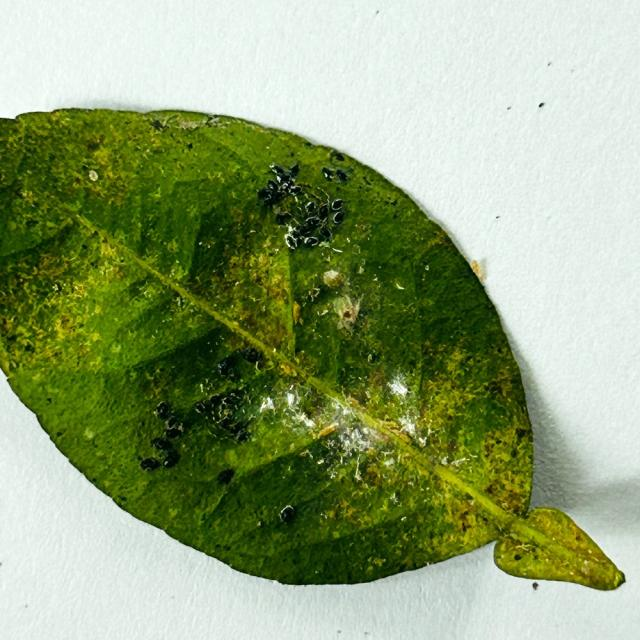Bacterial_Blight: (320, 413, 398, 462), (281, 193, 344, 250), (191, 389, 254, 443), (257, 163, 302, 211), (141, 431, 184, 478), (484, 477, 530, 516), (218, 348, 262, 379), (152, 402, 184, 442), (482, 372, 522, 404), (126, 277, 159, 304), (453, 498, 480, 531), (361, 462, 389, 487), (322, 166, 348, 184), (217, 355, 237, 377), (81, 163, 102, 183), (323, 269, 344, 288), (349, 387, 370, 405), (216, 467, 235, 486), (242, 347, 262, 364), (485, 380, 505, 397), (139, 457, 161, 472), (383, 194, 401, 212), (205, 395, 224, 411), (227, 390, 245, 406), (279, 505, 295, 523), (288, 228, 304, 245), (0, 317, 14, 336), (155, 401, 171, 417), (261, 191, 277, 207), (150, 437, 168, 451), (264, 182, 279, 197), (86, 137, 102, 151), (270, 164, 287, 177), (515, 426, 530, 440), (329, 150, 345, 163), (257, 187, 271, 201), (317, 204, 330, 219), (285, 234, 297, 250), (194, 400, 207, 414), (332, 210, 345, 224), (330, 198, 344, 211), (150, 119, 165, 131), (367, 351, 380, 364), (288, 163, 300, 177), (174, 295, 185, 310), (25, 218, 39, 229), (220, 398, 232, 410), (322, 168, 333, 180), (357, 309, 368, 319), (23, 342, 34, 352), (361, 176, 372, 185), (407, 358, 416, 369), (510, 448, 518, 458), (513, 553, 522, 561), (186, 142, 194, 150), (52, 283, 59, 292), (56, 431, 64, 438), (256, 520, 263, 528), (496, 346, 503, 353), (82, 164, 89, 171), (81, 243, 88, 250), (46, 397, 52, 403), (119, 257, 125, 263)
Lemon: (0, 109, 622, 594)
